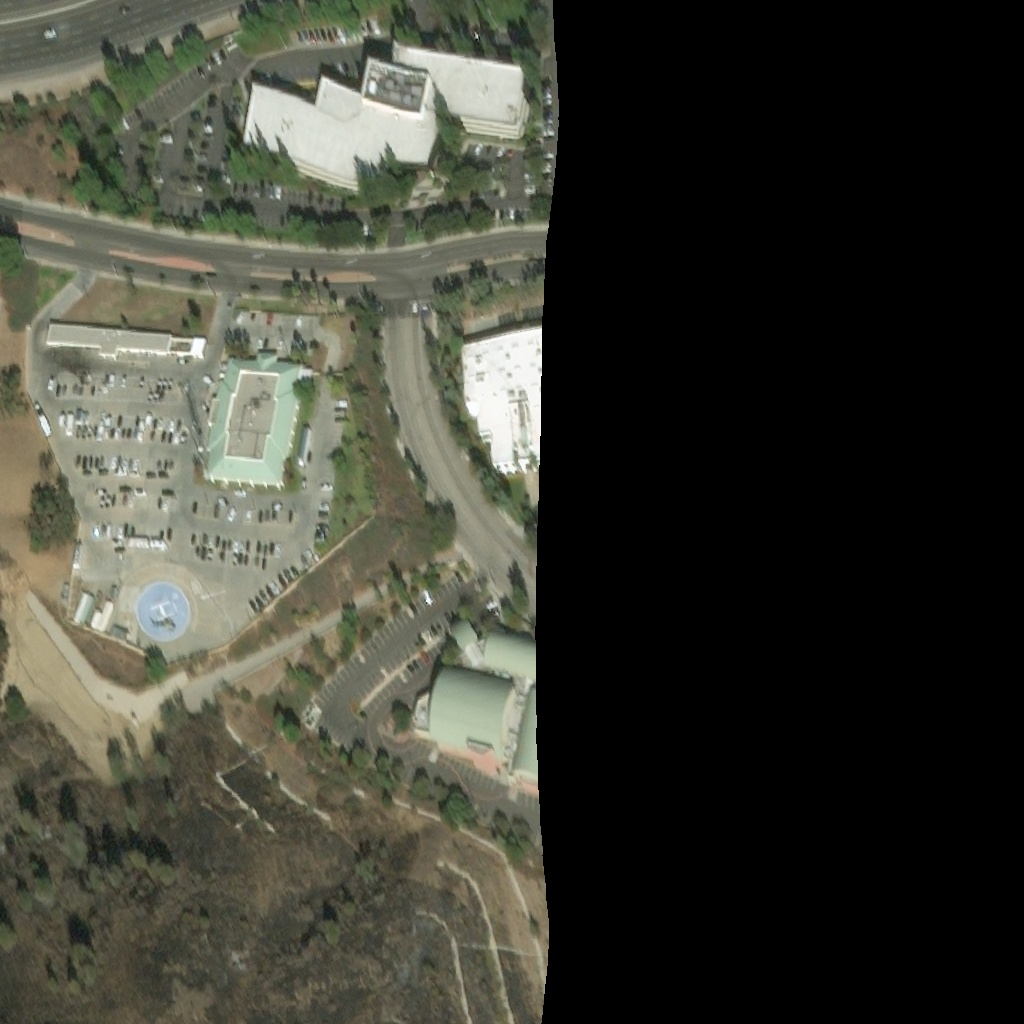0 no-damage: (241, 35, 527, 169), (210, 356, 313, 500), (409, 673, 520, 764), (44, 317, 204, 355), (448, 623, 487, 672), (74, 601, 97, 632), (99, 611, 116, 639), (114, 636, 132, 652), (93, 619, 104, 635)
